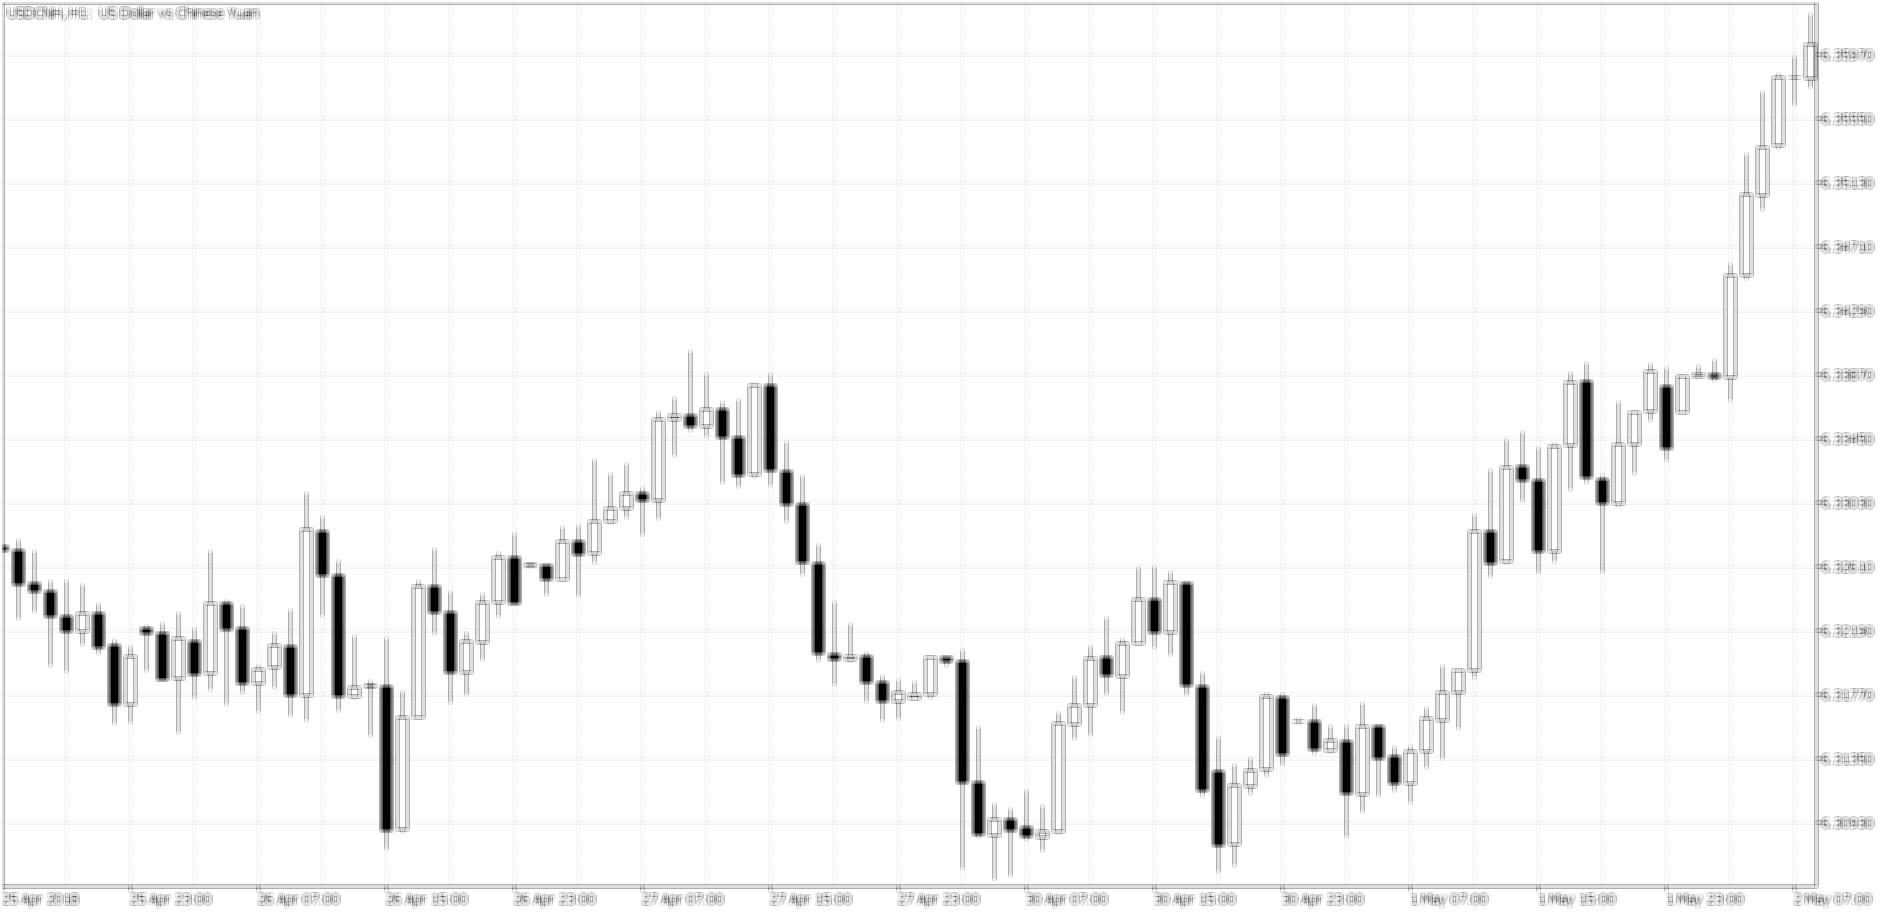tripleTops: (284, 322, 1315, 861)
